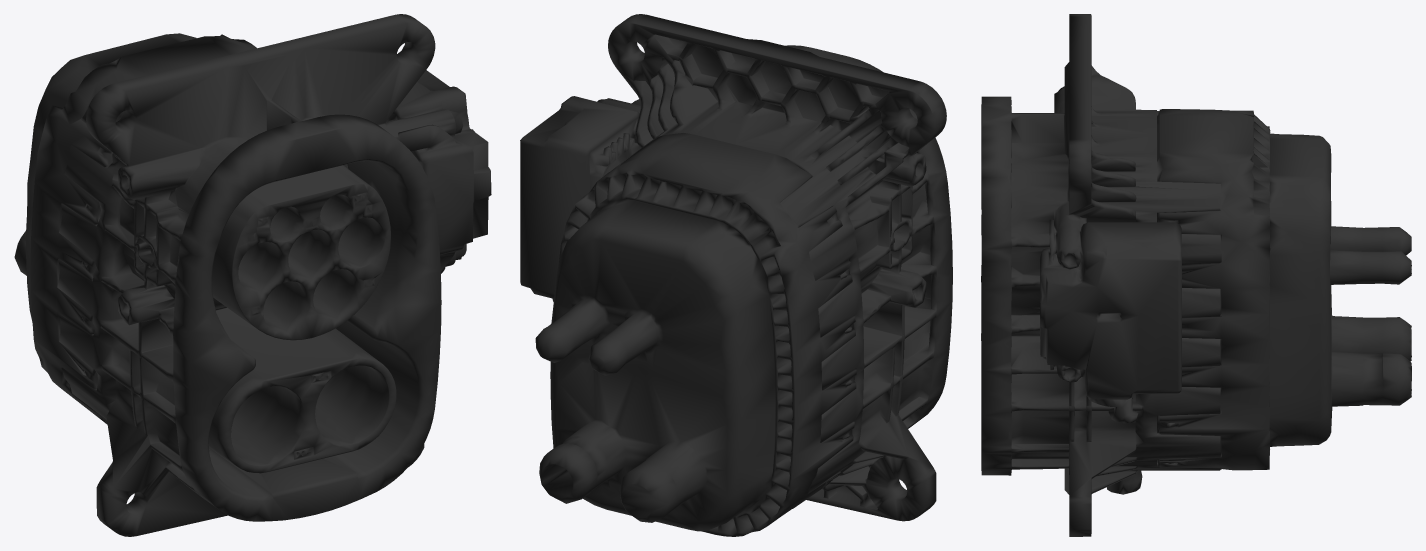
File: type_2_css_socket.obj
The picture shows the model from 3 angles, left to right: view 1: azimuth 30°, elevation 25°; view 2: azimuth 150°, elevation 25°; view 3: azimuth 270°, elevation 25°; orthographic projection. The views are drawn at different scales.
Bounding box in the file's own units: 0.1217 × 0.1403 × 0.1336.
1 material, 1 textured.
